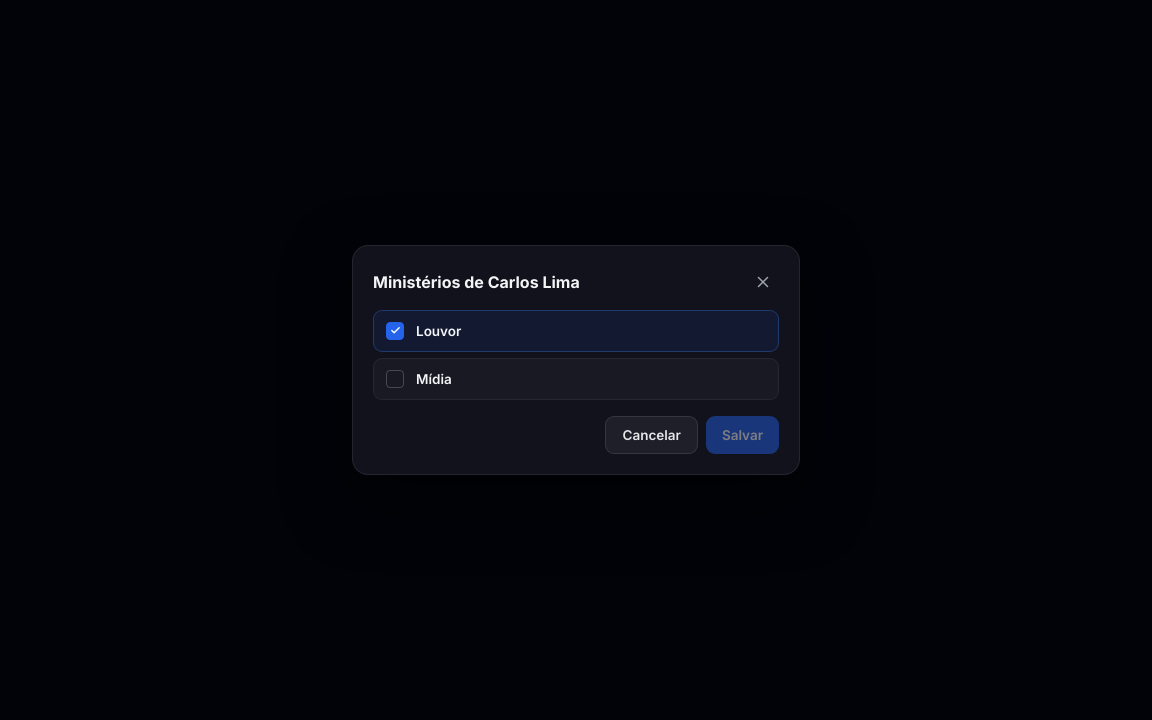
Scenario: ManageMinistriesModal › Salvar desabilitado inicialmente; habilita após toggle de seleção
Check: the text "Louvor" is shown, box [416,323,461,339]
Check: the button "Salvar" is disabled, box [706,416,779,454]
# toggle Mídia (currently unselected) → dirty
Click the button "Mídia". click: (434, 379)
box: [373,358,779,400]
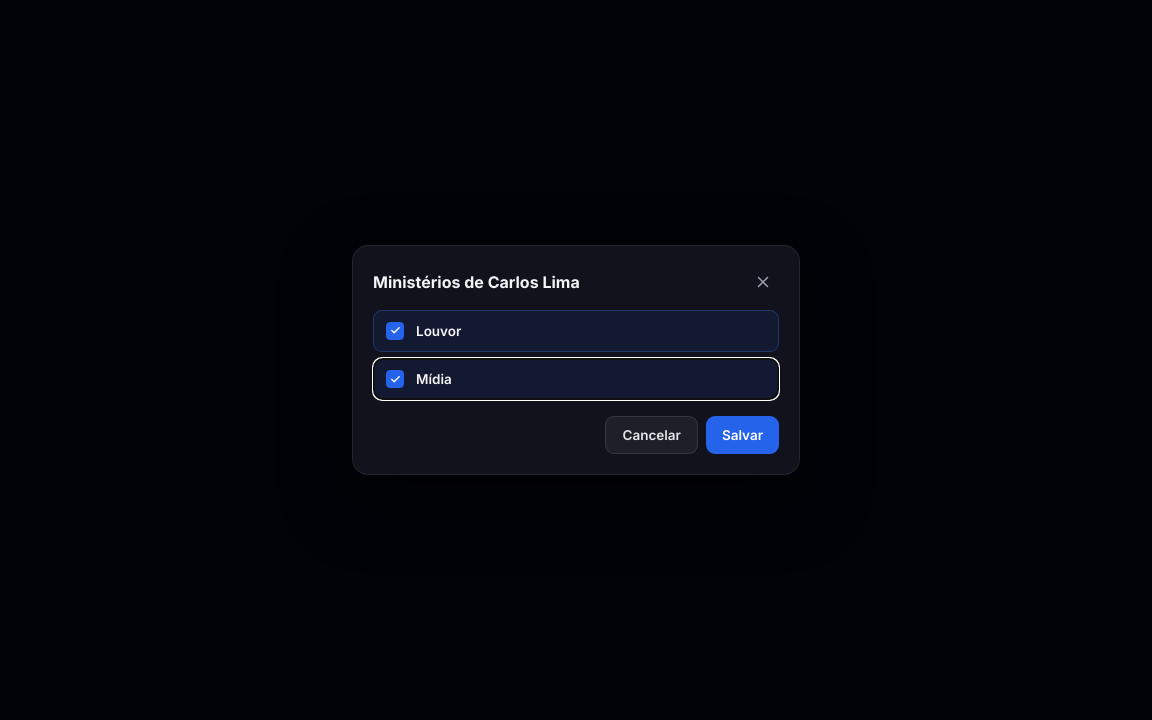
Check: the button "Salvar" is enabled, box [706,416,779,454]
